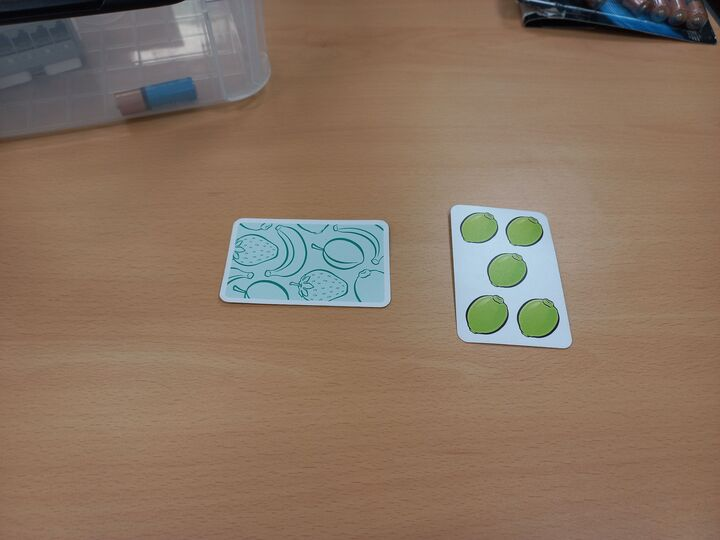lime5: (448, 200, 577, 350)
